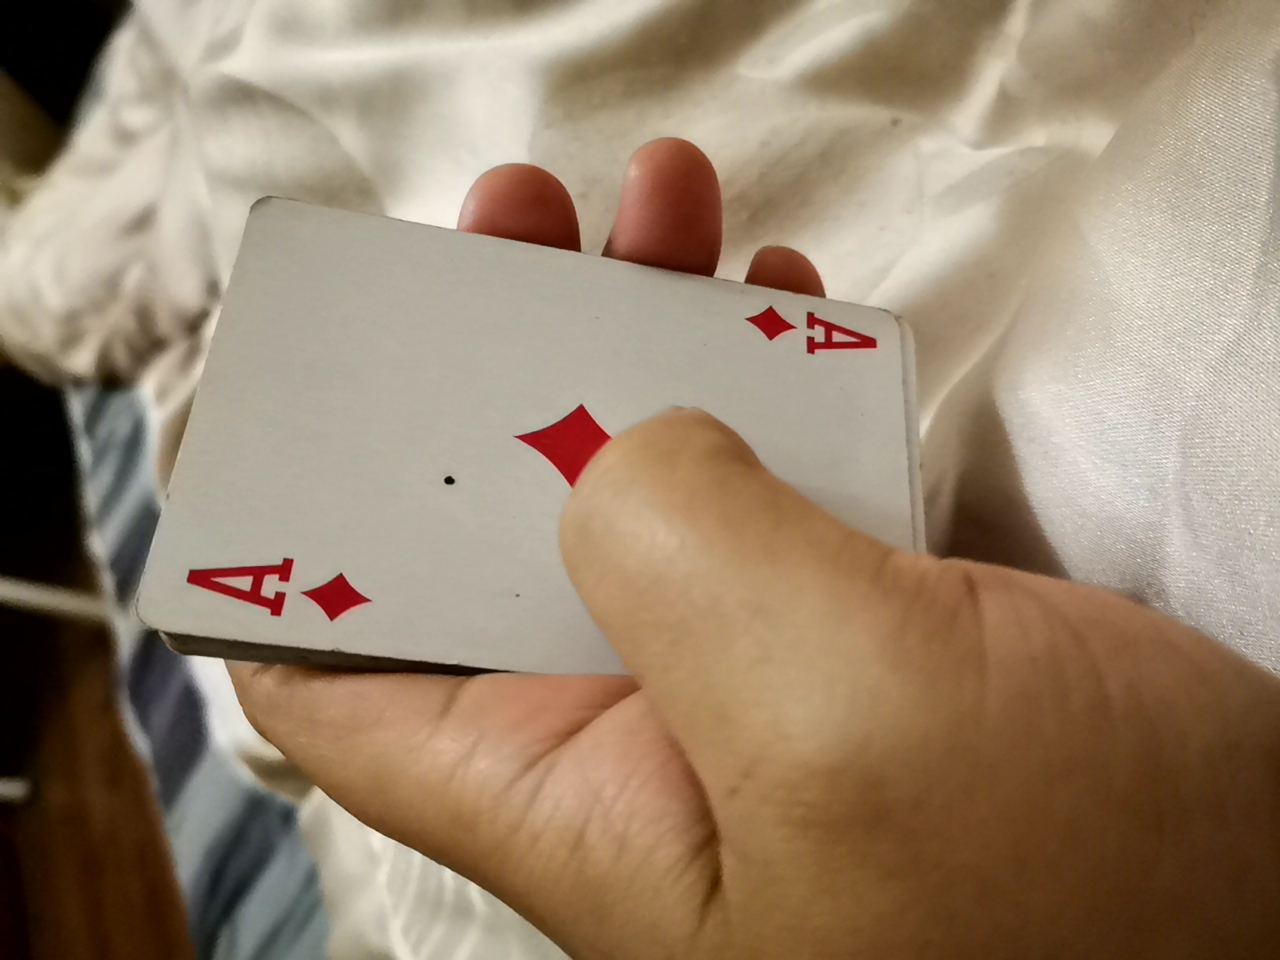fk a: (108, 110, 1007, 695)
